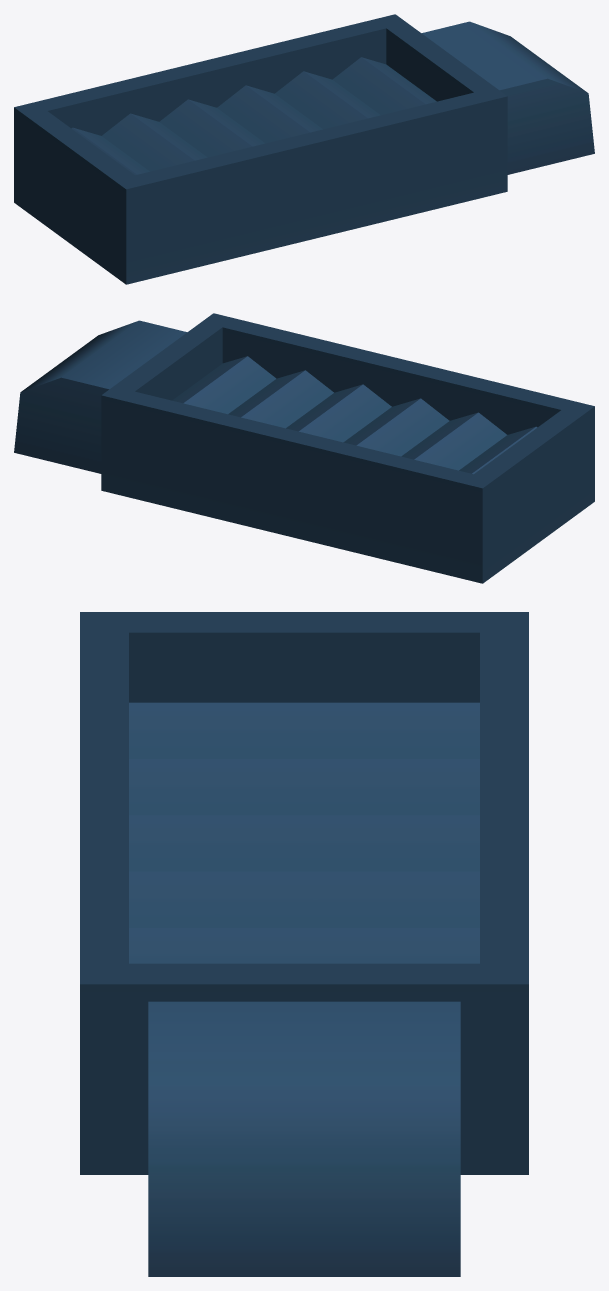
Rendered from Vent_1_D_2.fbx.
The picture shows the model from 3 angles, top to bottom: view 1: azimuth 30°, elevation 25°; view 2: azimuth 150°, elevation 25°; view 3: azimuth 270°, elevation 25°; orthographic projection. The views are drawn at different scales.
Parts seen in each view (by area): view 1: Vent_1_D_2; view 2: Vent_1_D_2; view 3: Vent_1_D_2.
Part boxes in pixels (x1=…): Vent_1_D_2: x1=14, y1=14, x2=594, y2=284; Vent_1_D_2: x1=14, y1=313, x2=594, y2=583; Vent_1_D_2: x1=80, y1=612, x2=528, y2=1276.
Bounding box in the file's own units: 142 × 26.71 × 56.97.
